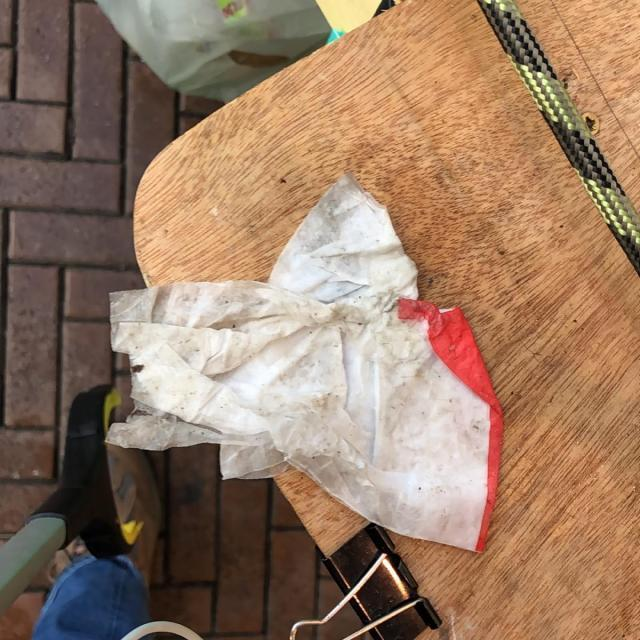Paper: (102, 167, 506, 556)
